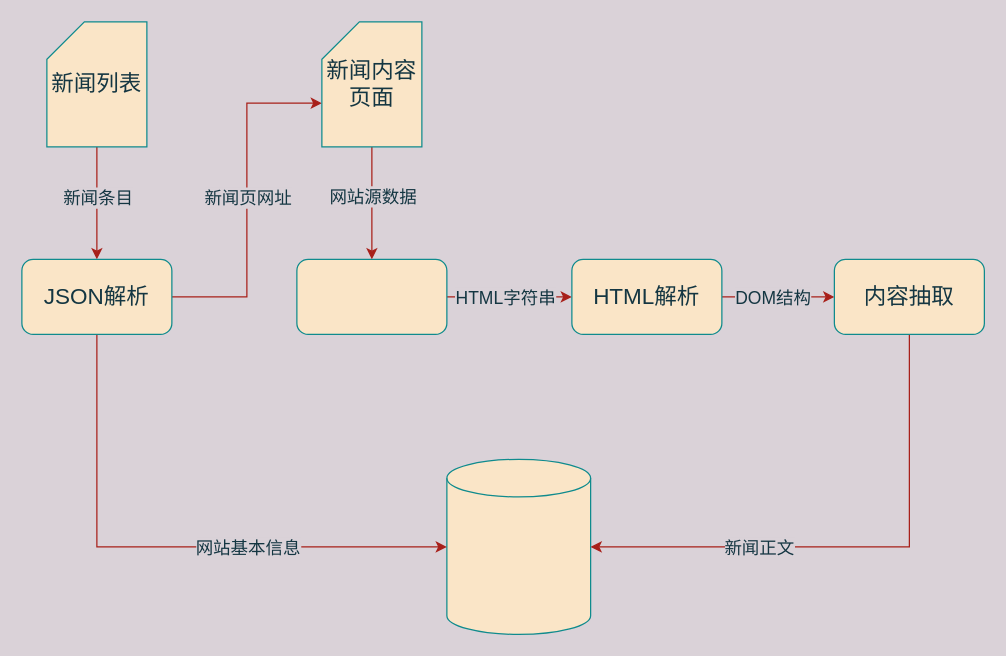
Image size: 1006x656. Some labels were removed from this diagram. The box of each missing label's shape, as (x1, y1, x2, y2) in pixels:
netease_news数据库: (446, 458, 591, 634)
编码识别: (296, 258, 447, 334)
